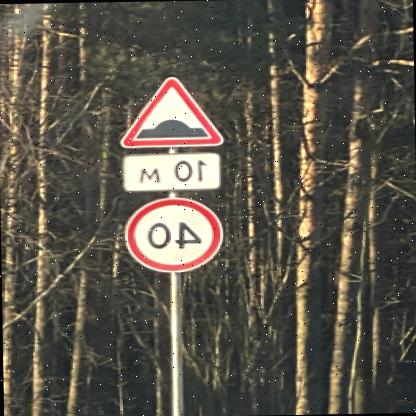speedlimit: (127, 196, 225, 270)
